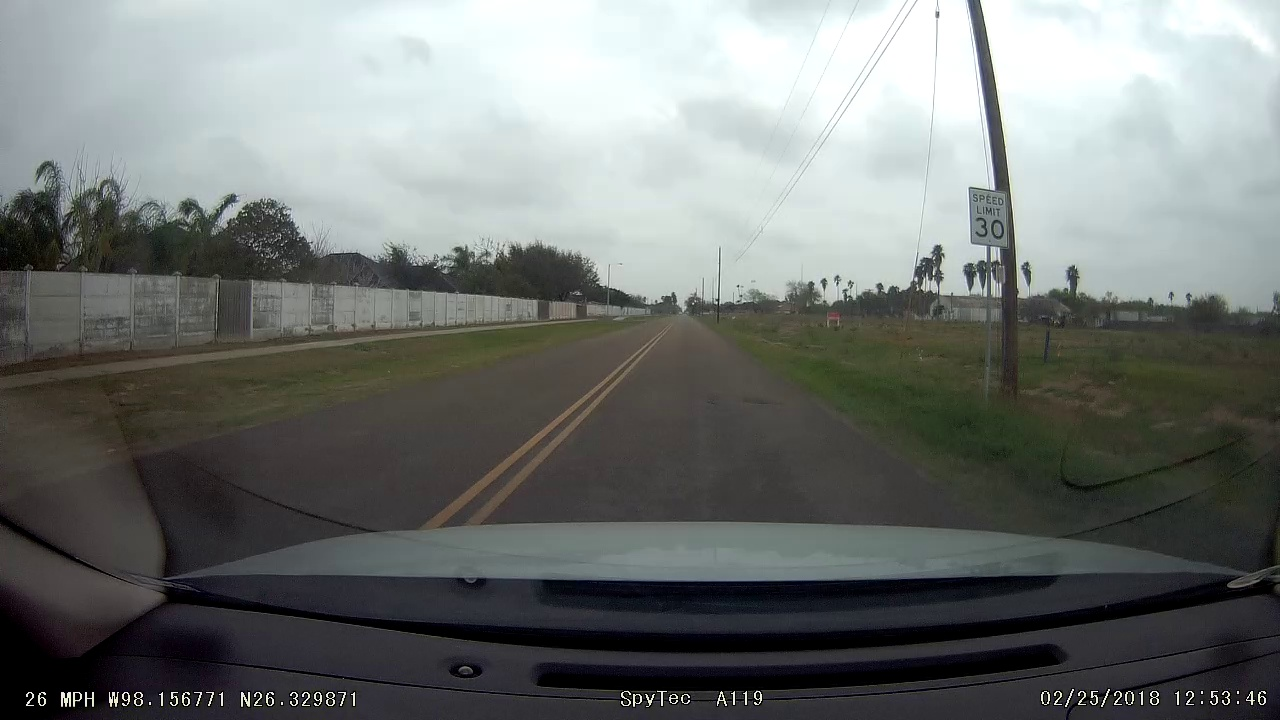pothole: (697, 381, 797, 423)
